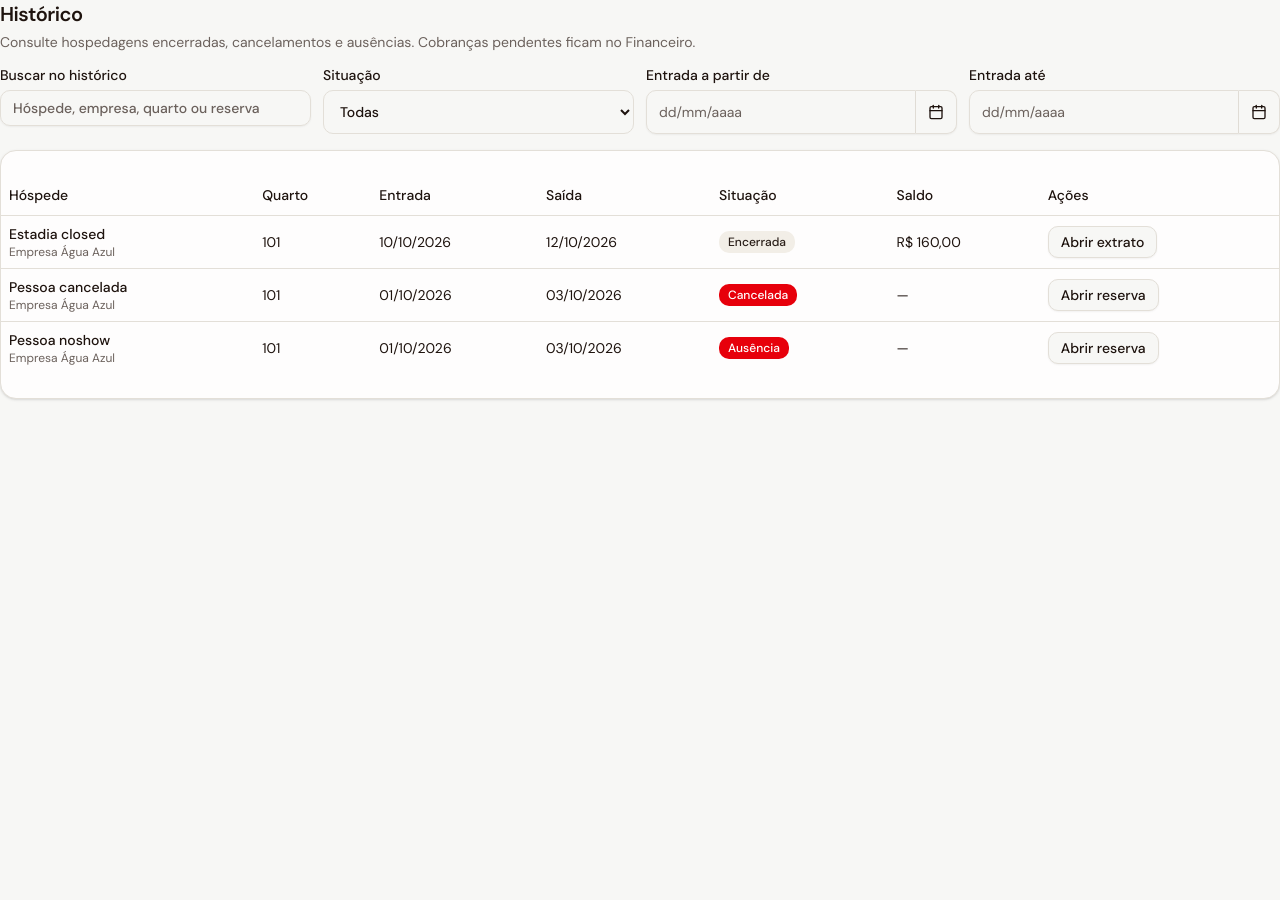
Test: Histórico separado da operação › preserva motivo e devolução do cancelamento sem reabrir ações operacionais
The width and height of the screenshot is (1280, 900).
Click the button with aria-label "Ver detalhes de Pessoa cancelada".
click(1103, 294)  # box x1=1048 y1=278 x2=1159 y2=310
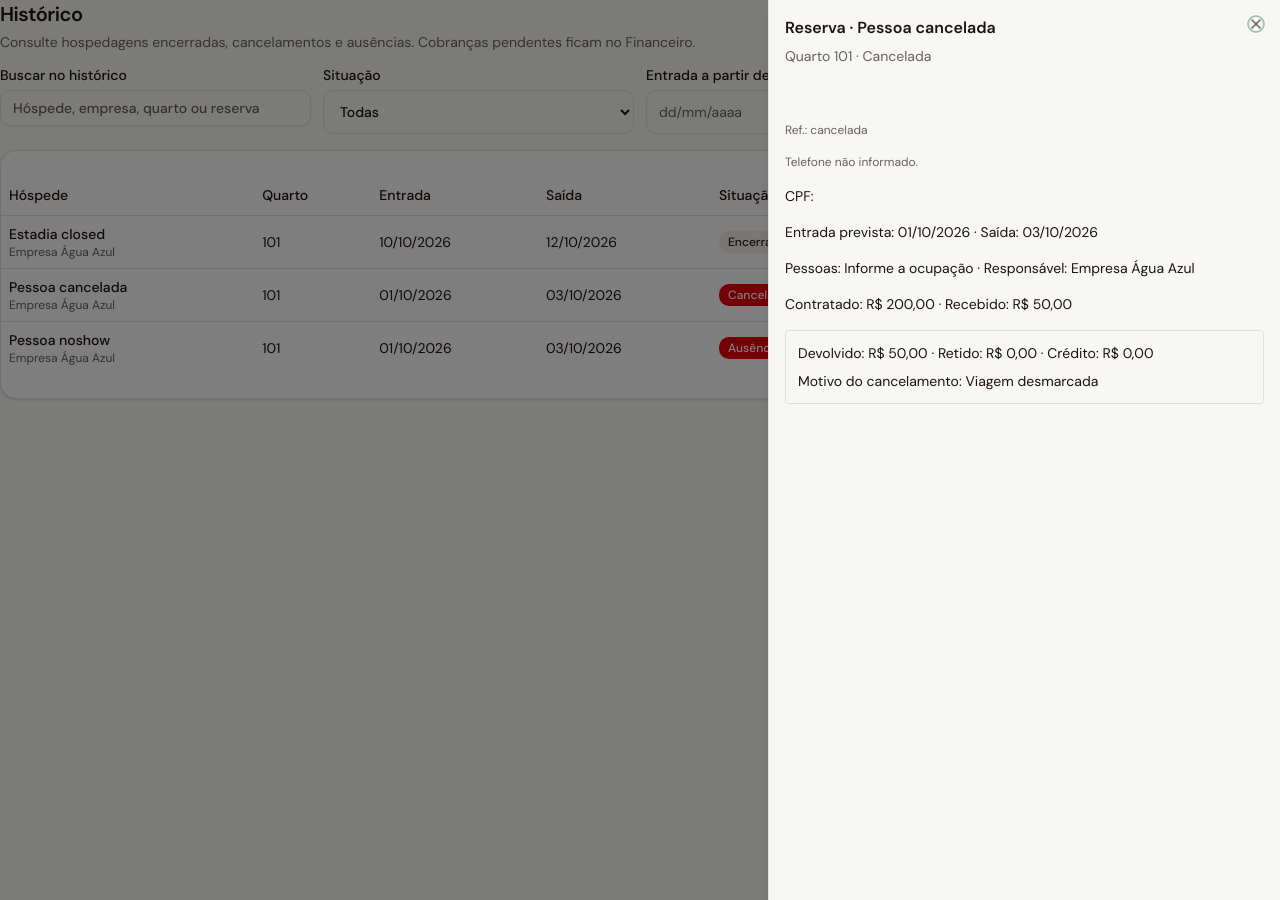
Now the text "Motivo do cancelamento: Viagem desmarcada" is shown, box x1=798 y1=372 x2=1098 y2=390
Now the text "Devolvido: R$ 50,00 · Retido: R$ 0,00 · Crédito: R$ 0,00" is shown, box x1=798 y1=344 x2=1154 y2=362
